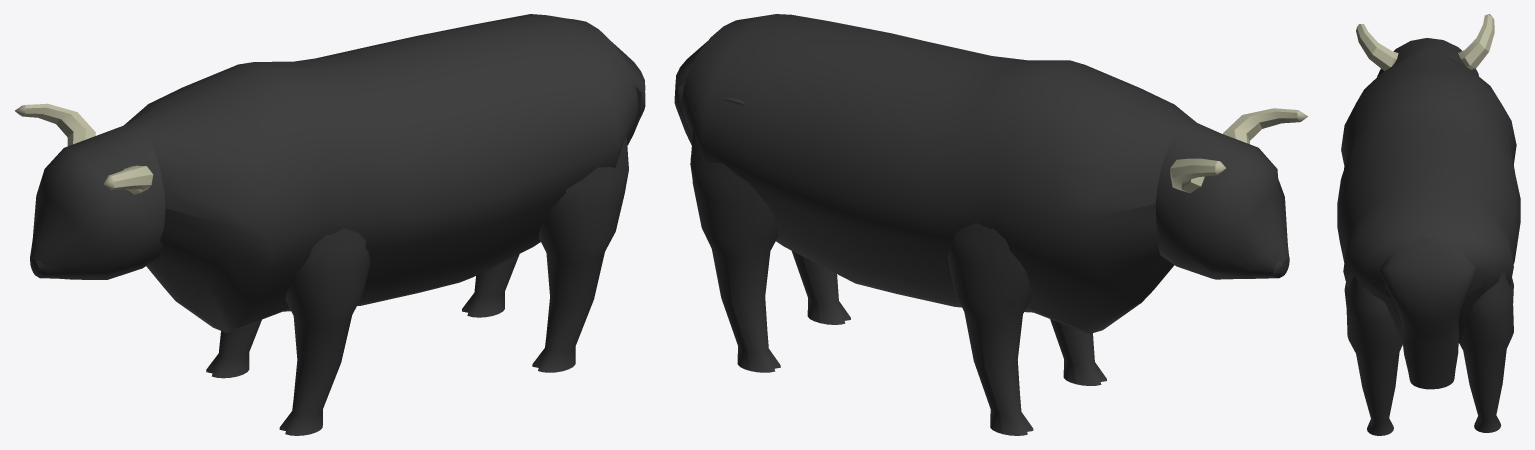
File: yak black.fbx
3 renders of one model, left to right at view 1: azimuth 30°, elevation 25°; view 2: azimuth 150°, elevation 25°; view 3: azimuth 270°, elevation 25°, orthographic. The views are drawn at different scales.
Parts seen in each view (by area): view 1: polySurface7; view 2: polySurface7; view 3: polySurface7.
Boxes of the visible parts, <box> form: polySurface7: <box>15,14,645,435</box>; polySurface7: <box>674,14,1307,435</box>; polySurface7: <box>1337,14,1520,435</box>.
Size of the model in its own units: 303 by 162 by 106.
